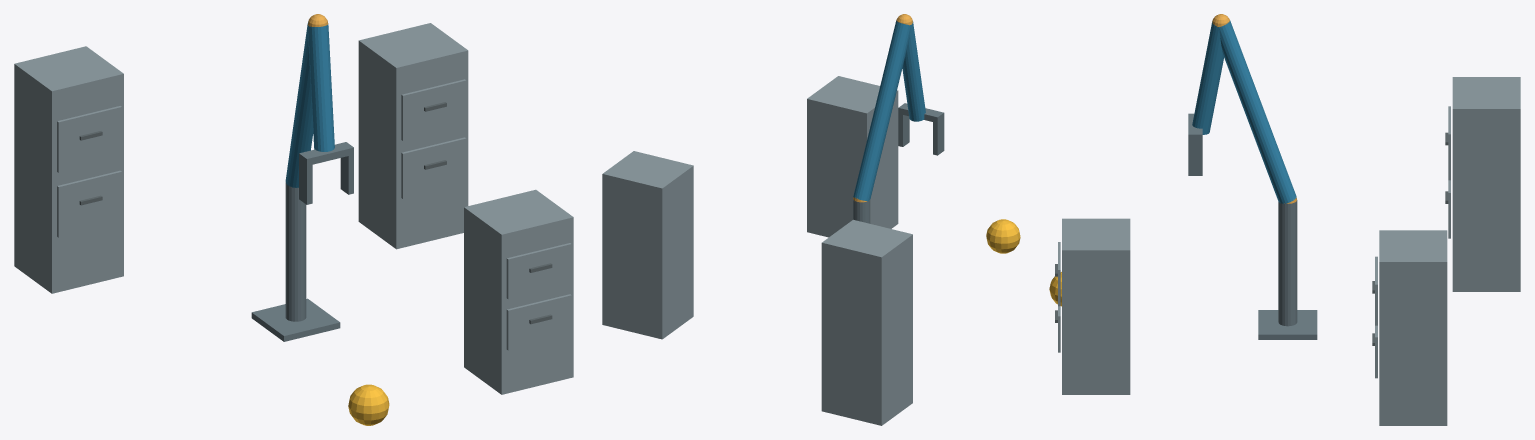
The picture shows the model from 3 angles, left to right: view 1: azimuth 30°, elevation 25°; view 2: azimuth 150°, elevation 25°; view 3: azimuth 270°, elevation 25°; orthographic projection. The views are drawn at different scales.
Visible parts, largest first — view 1: cabinet_3 body, cabinet_2 body, cabinet_1 body, cabinet_3 drawer front, cabinet_3 drawer front.001, cabinet_2 drawer front.001, cabinet_2 drawer front, fixed post, cabinet_1 drawer front, cabinet_1 drawer front.001, moving link 2, moving link 1 (+5 smaller); view 2: cabinet_3 body, cabinet_2 body, cabinet_1 body, moving link 1, moving link 2, ball ball_1, gripper finger -1; view 3: cabinet_3 body, cabinet_2 body, cabinet_1 body, moving link 1, fixed post, moving link 2, pedestal, gripper finger 1.
Part boxes in pixels (<box>): cabinet_3 body: <box>14,46,123,293</box>; cabinet_2 body: <box>358,23,468,249</box>; cabinet_1 body: <box>464,189,573,394</box>; cabinet_3 drawer front: <box>57,170,121,237</box>; cabinet_3 drawer front.001: <box>57,106,121,172</box>; cabinet_2 drawer front.001: <box>401,79,466,140</box>; cabinet_2 drawer front: <box>401,137,466,198</box>; fixed post: <box>285,183,306,321</box>; cabinet_1 drawer front: <box>506,294,571,350</box>; cabinet_1 drawer front.001: <box>506,243,571,299</box>; moving link 2: <box>308,24,334,151</box>; moving link 1: <box>285,22,313,187</box>; cabinet_3 body: <box>821,219,912,425</box>; cabinet_2 body: <box>602,151,693,339</box>; cabinet_1 body: <box>807,76,898,237</box>; moving link 1: <box>853,20,910,201</box>; moving link 2: <box>902,22,925,121</box>; ball ball_1: <box>986,219,1020,253</box>; gripper finger -1: <box>933,119,944,155</box>; cabinet_3 body: <box>1452,77,1520,291</box>; cabinet_2 body: <box>1379,230,1447,425</box>; cabinet_1 body: <box>1062,218,1130,394</box>; moving link 1: <box>1219,20,1296,204</box>; fixed post: <box>1278,200,1297,326</box>; moving link 2: <box>1192,22,1223,134</box>; pedestal: <box>1258,310,1317,339</box>; gripper finger 1: <box>1188,141,1202,175</box>.
Bounding box in the file's own units: 1.67 × 1.44 × 2.01.
